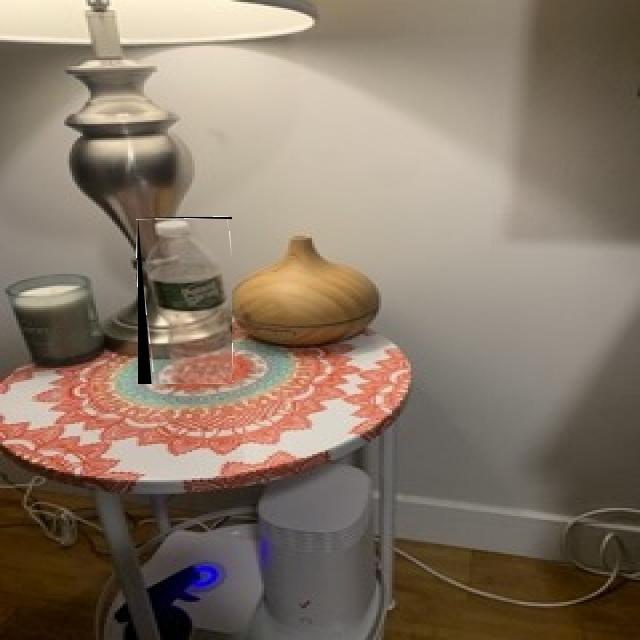water_bottle: (138, 217, 232, 384)
